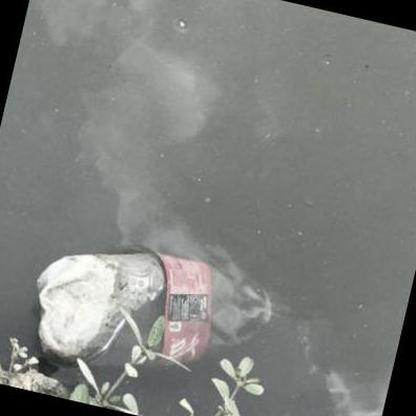plastic bottle: (35, 251, 282, 358)
